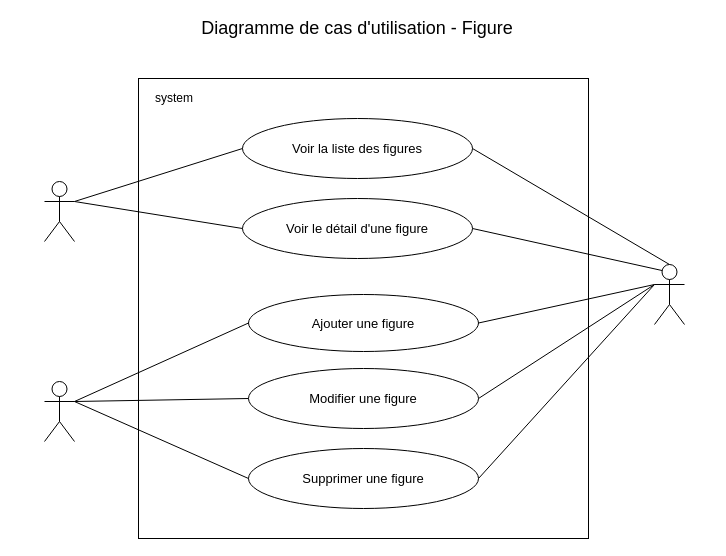
Image size: 726x556. Some labels were removed from this diagram. The shapes that lost their labels are listed below. From the top down, each one's box as (x1, y1, x2, y2) in pixels, then its label:
(44, 180, 74, 242): Utilisateur
(654, 264, 684, 324): <<systeme>> BDD
(44, 380, 74, 442): Administrateur
